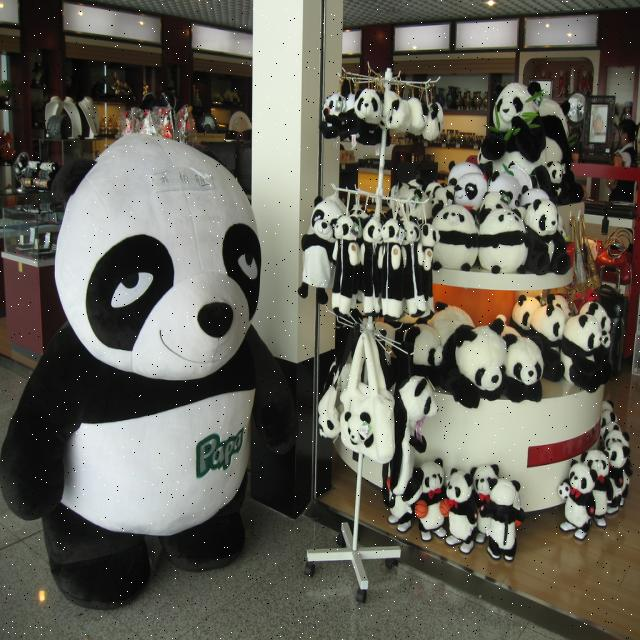panda: (0, 128, 279, 613), (389, 77, 586, 274), (406, 290, 613, 410), (294, 187, 440, 316), (384, 464, 526, 563), (560, 401, 633, 538), (315, 73, 440, 147), (399, 377, 441, 425), (314, 385, 342, 439), (342, 408, 371, 446)
